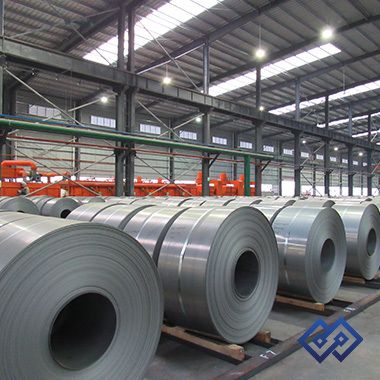steel-coil: (89, 180, 378, 325), (0, 206, 168, 328), (159, 199, 284, 326), (159, 208, 255, 326), (280, 197, 356, 306), (341, 198, 379, 273)
